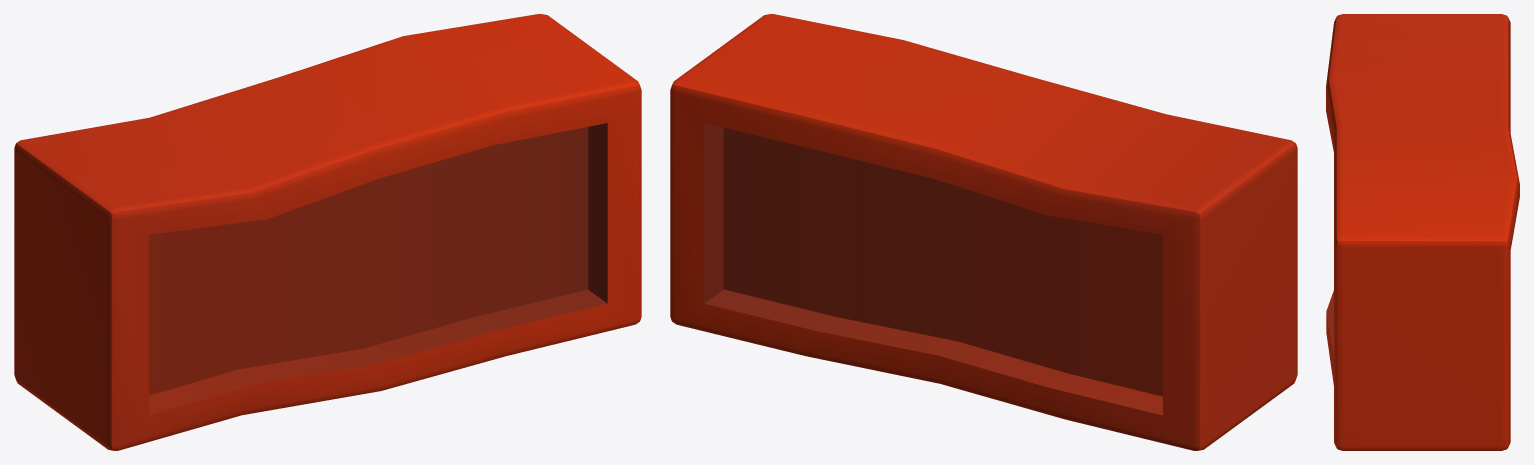
File: Brick.fbx
The picture shows the model from 3 angles, left to right: view 1: azimuth 30°, elevation 25°; view 2: azimuth 150°, elevation 25°; view 3: azimuth 270°, elevation 25°; orthographic projection. The views are drawn at different scales.
Visible parts, largest first — view 1: Brick; view 2: Brick; view 3: Brick.
Part boxes in pixels (<box>): Brick: <box>14,14,641,450</box>; Brick: <box>670,14,1297,450</box>; Brick: <box>1326,14,1519,450</box>.
Size of the model in its own units: 21.86 by 9.76 by 7.81.
1 material, 1 textured.
